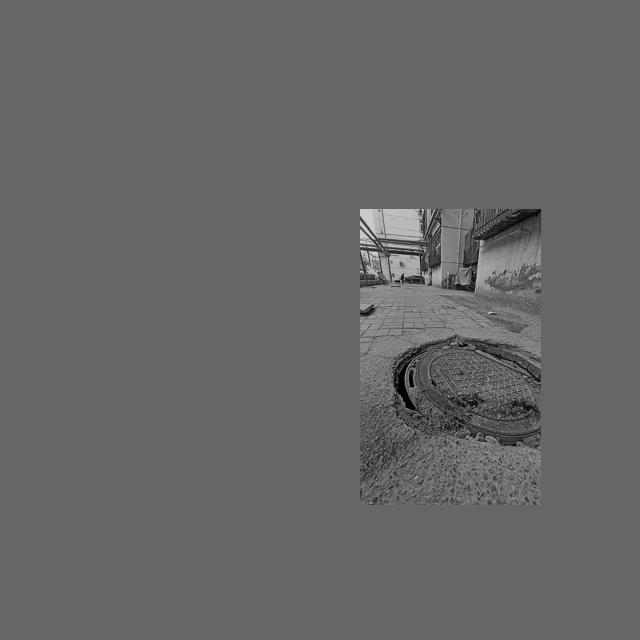circle: (384, 328, 540, 481)
